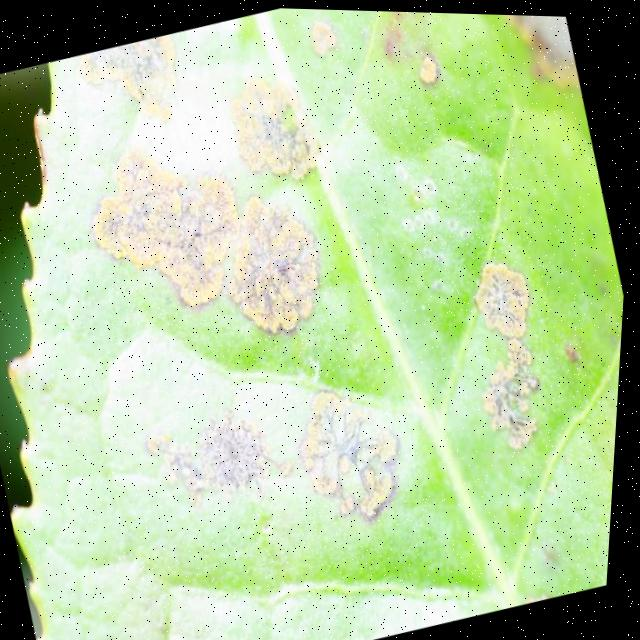Tea red rust: (35, 1, 608, 572)
